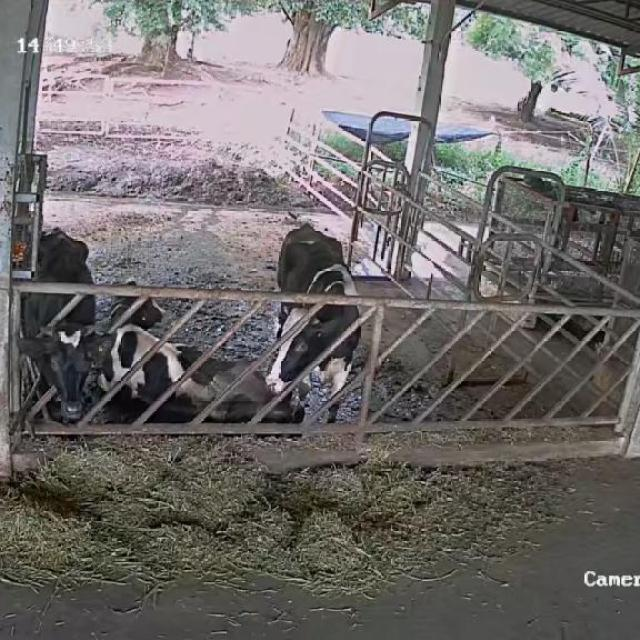feeding: (24, 225, 117, 432)
lying down: (96, 276, 278, 435)
standing: (260, 219, 368, 427)
